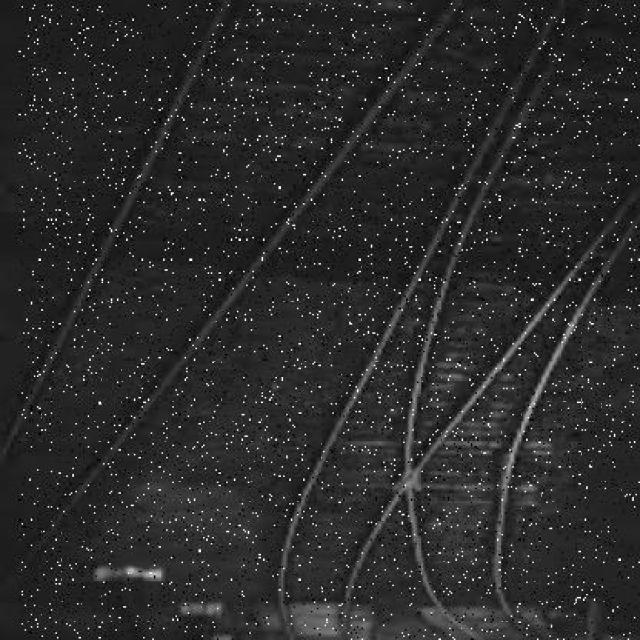rail: (19, 4, 640, 640)
